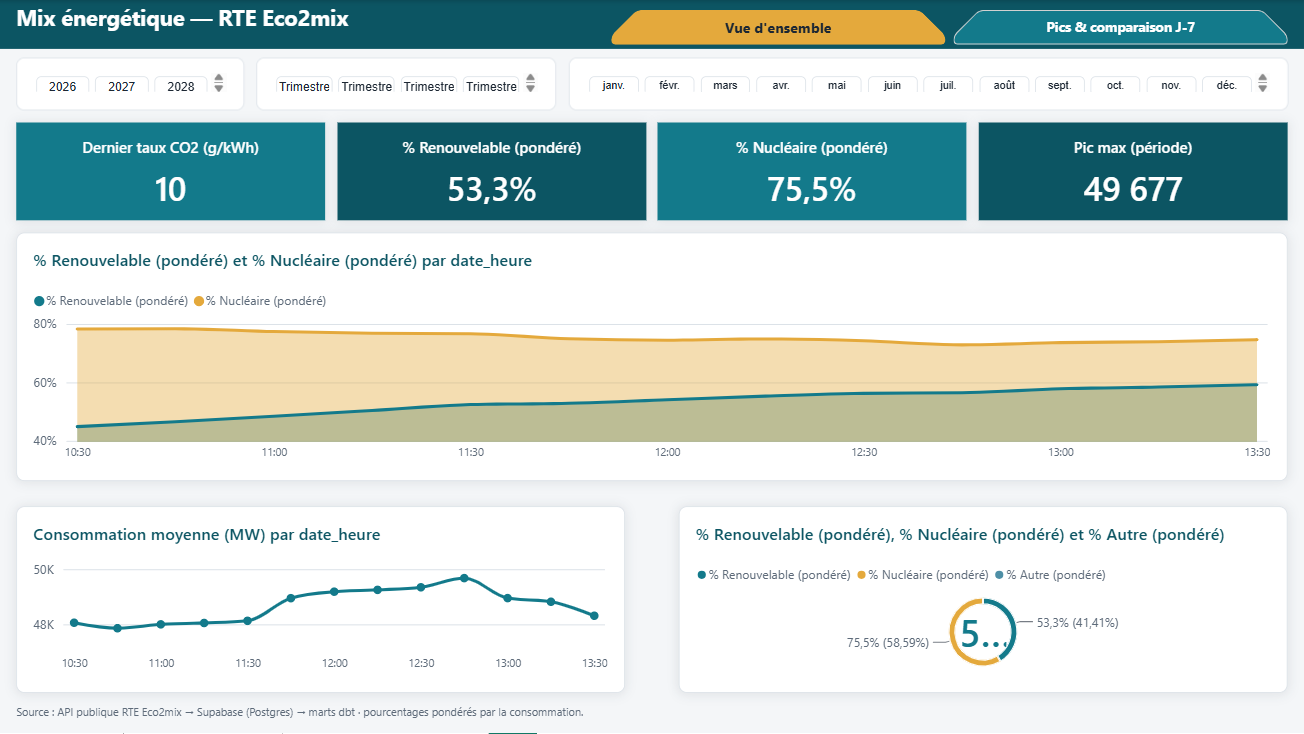

This screenshot's page, from the dashboard's own definition file:
{"tool":"powerbi","page":{"name":"Vue d'ensemble","canvas":[1920,1080],"ordinal":0},"visuals":[{"type":"pageNavigator","box":[0,0,1920.4,49.4],"z":1},{"type":"card","fields":{"Values":["mart_mix_energetique.Dernier taux CO2 (g/kWh)"]},"box":[116,204.3,298.2,180.4],"z":4},{"type":"card","fields":{"Values":["mart_mix_energetique.% Renouvelable (pondéré)"]},"box":[568.7,204.3,298.2,180.4],"z":5},{"type":"card","fields":{"Values":["mart_mix_energetique.% Nucléaire (pondéré)"]},"box":[1054.6,204.3,298.2,180.4],"z":6},{"type":"card","fields":{"Values":["mart_pics_quotidiens.Pic max (période)"]},"box":[1501.8,204.3,298.2,180.4],"z":7},{"type":"areaChart","fields":{"Category":["mart_mix_energetique.date_heure"],"Y":["mart_mix_energetique.% Renouvelable (pondéré)","mart_mix_energetique.% Nucléaire (pondéré)"]},"box":[41.8,434.3,1834.7,332.7],"z":8},{"type":"lineChart","fields":{"Category":["mart_mix_energetique.date_heure"],"Y":["mart_mix_energetique.Consommation moyenne (MW)"]},"box":[41.8,800.8,878.5,249],"z":9},{"type":"donutChart","fields":{"Y":["mart_mix_energetique.% Renouvelable (pondéré)","mart_mix_energetique.% Nucléaire (pondéré)","mart_mix_energetique.% Autre (pondéré)"]},"box":[998.1,800.8,878.5,249],"z":10},{"type":"ChicletSlicer1448559807354","fields":{"Category":["dim_date.Hiérarchie Date.Année"]},"box":[12.9,66.3,204.3,97.5],"z":11},{"type":"ChicletSlicer1448559807354","fields":{"Category":["dim_date.Hiérarchie Date.Trimestre"]},"box":[264.8,63.8,231.1,97.6],"z":12},{"type":"ChicletSlicer1448559807354","fields":{"Category":["dim_date.Hiérarchie Date.Mois"]},"box":[535.9,63.7,612.9,97.5],"z":13}]}

Visuals, with their boxes in screenshot pixels (x1, y1, x2, y2), scaled from the page's 1920x1080 canvas onto the 1304x734 screenshot:
pageNavigator: detection(0, 0, 1303, 34)
card - mart_mix_energetique.Dernier taux CO2 (g/kWh): detection(79, 139, 281, 261)
card - mart_mix_energetique.% Renouvelable (pondéré): detection(386, 139, 589, 261)
card - mart_mix_energetique.% Nucléaire (pondéré): detection(716, 139, 919, 261)
card - mart_pics_quotidiens.Pic max (période): detection(1020, 139, 1222, 261)
areaChart - mart_mix_energetique.date_heure x mart_mix_energetique.% Renouvelable (pondéré): detection(28, 295, 1274, 521)
lineChart - mart_mix_energetique.date_heure x mart_mix_energetique.Consommation moyenne (MW): detection(28, 544, 625, 713)
donutChart - mart_mix_energetique.% Renouvelable (pondéré) x mart_mix_energetique.% Nucléaire (pondéré): detection(678, 544, 1275, 713)
ChicletSlicer1448559807354 - dim_date.Hiérarchie Date.Année: detection(9, 45, 148, 111)
ChicletSlicer1448559807354 - dim_date.Hiérarchie Date.Trimestre: detection(180, 43, 337, 110)
ChicletSlicer1448559807354 - dim_date.Hiérarchie Date.Mois: detection(364, 43, 780, 110)
